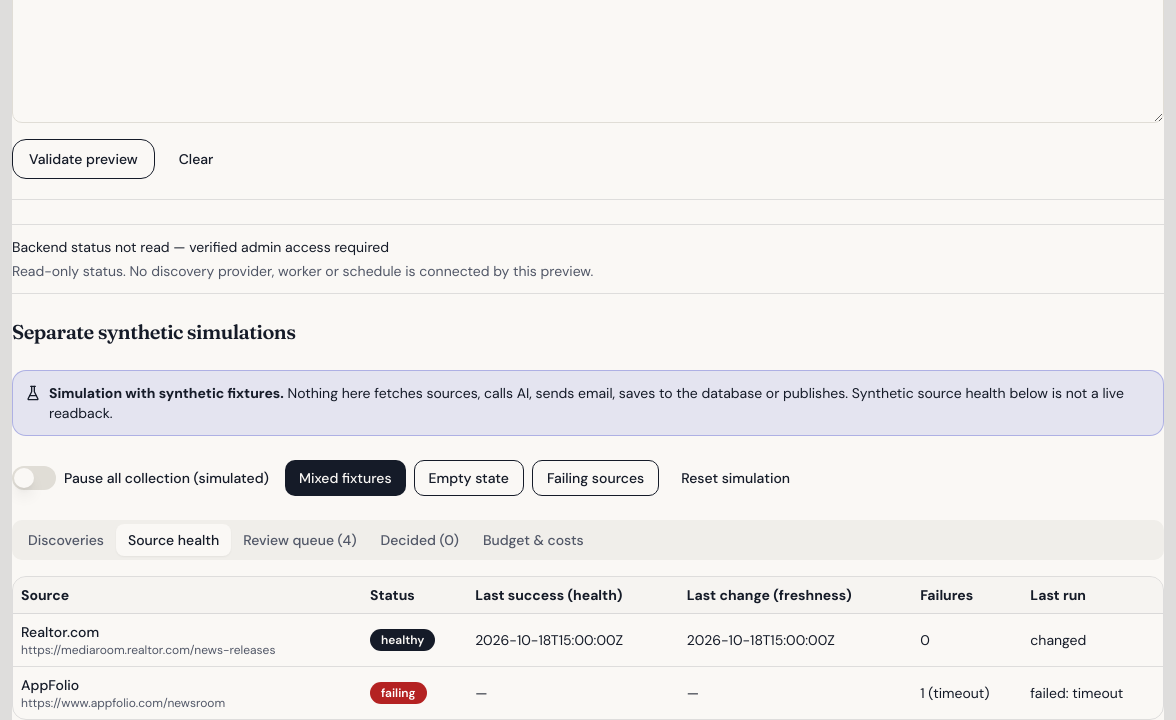
Test: UpdatesEngineAdmin (simulation) › shows empty state
The image size is (1176, 720).
(page scrolled)
Click the button "Empty state".
click(469, 478)  # box [414,460,524,496]
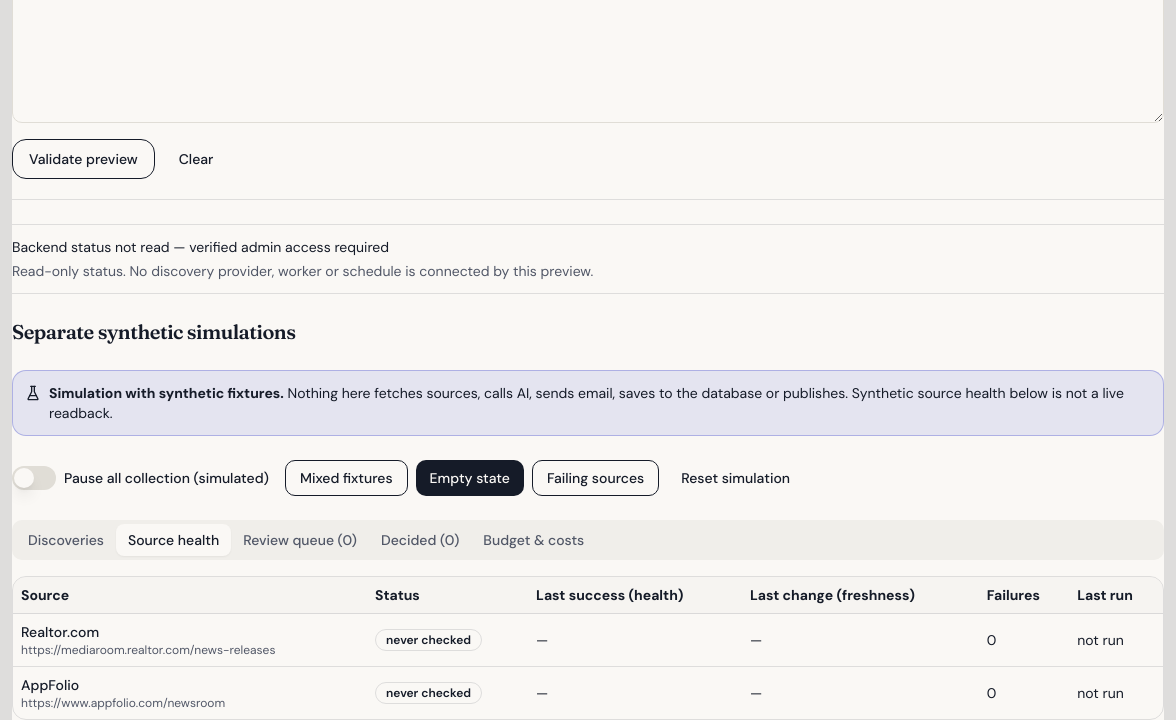
Press the mouse on the tab "Review queue (0)" at (300, 540), box [231,524,369,556]
(page scrolled)
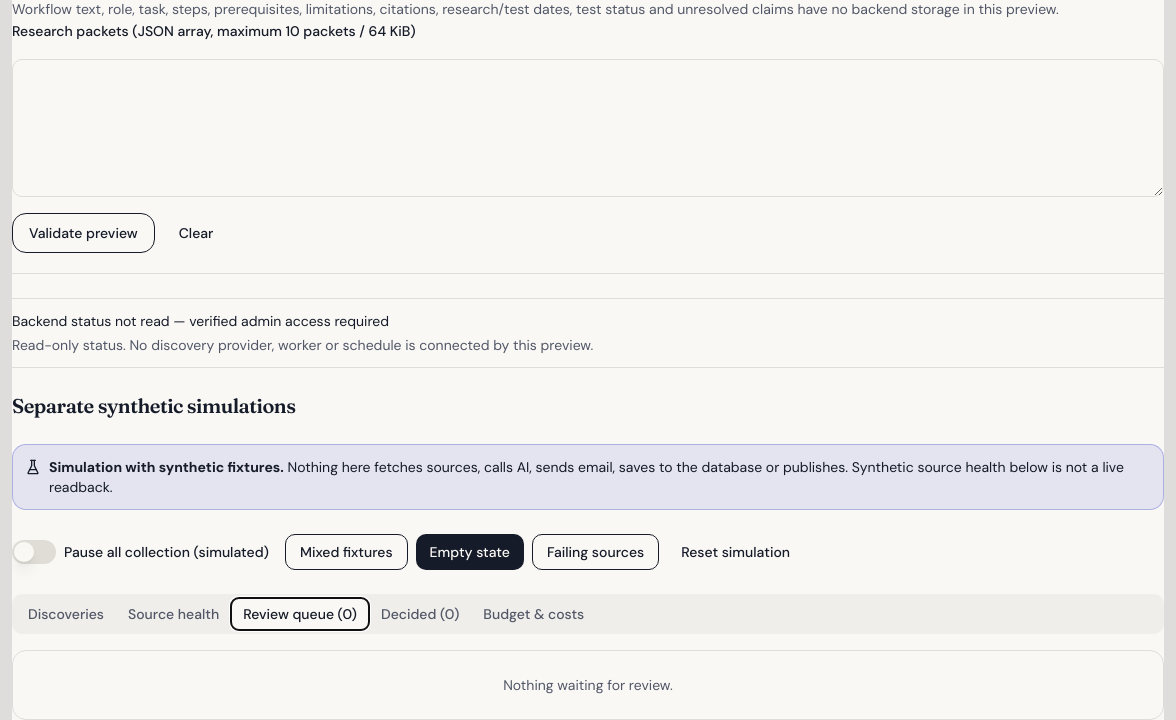
Now the text "Nothing waiting for review." is shown, box [12,650,1164,719]
